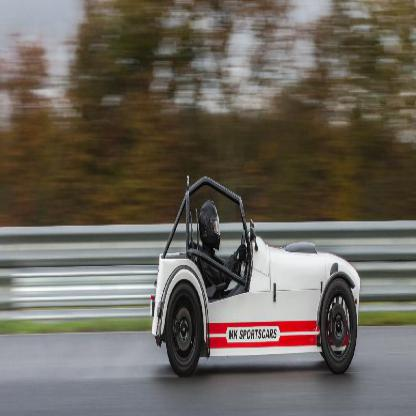Car: (147, 177, 360, 383)
